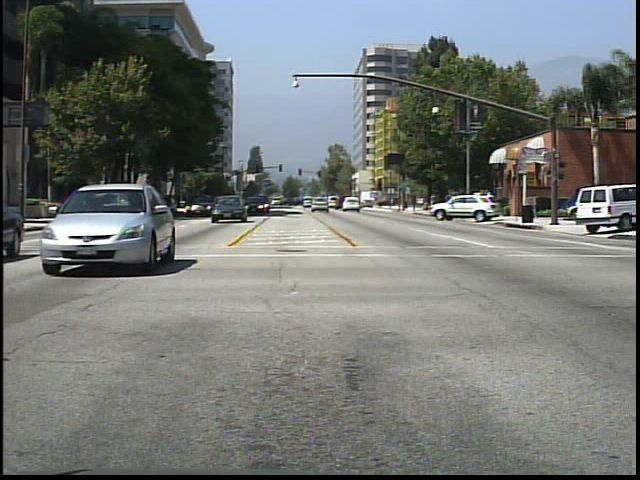person: (448, 187, 464, 220), (426, 187, 439, 212)
